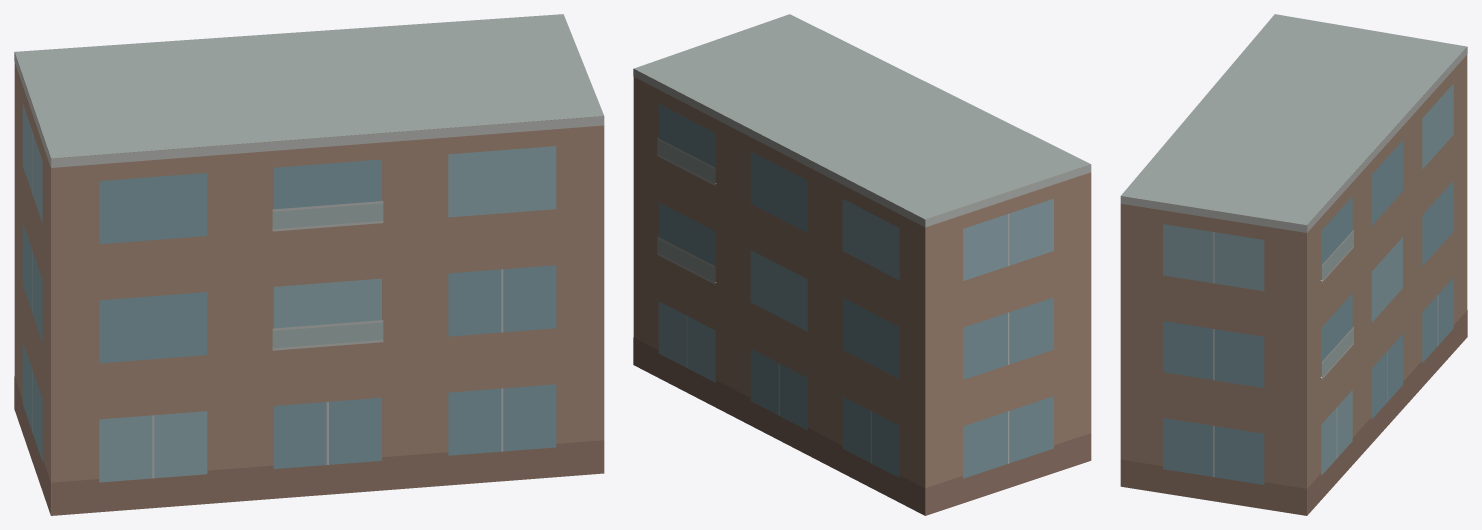
Rendered from survey-upis-32970244.glb.
The picture shows the model from 3 angles, left to right: view 1: azimuth 30°, elevation 25°; view 2: azimuth 150°, elevation 25°; view 3: azimuth 270°, elevation 25°; orthographic projection. The views are drawn at different scales.
Visible parts, largest first — view 1: survey-upis-32970244.tmp; view 2: survey-upis-32970244.tmp; view 3: survey-upis-32970244.tmp.
Boxes of the visible parts, <box> form: survey-upis-32970244.tmp: <box>14,14,604,515</box>; survey-upis-32970244.tmp: <box>633,14,1091,515</box>; survey-upis-32970244.tmp: <box>1120,14,1467,515</box>.
Bounding box in the file's own units: 14.27 × 9.15 × 9.9.
